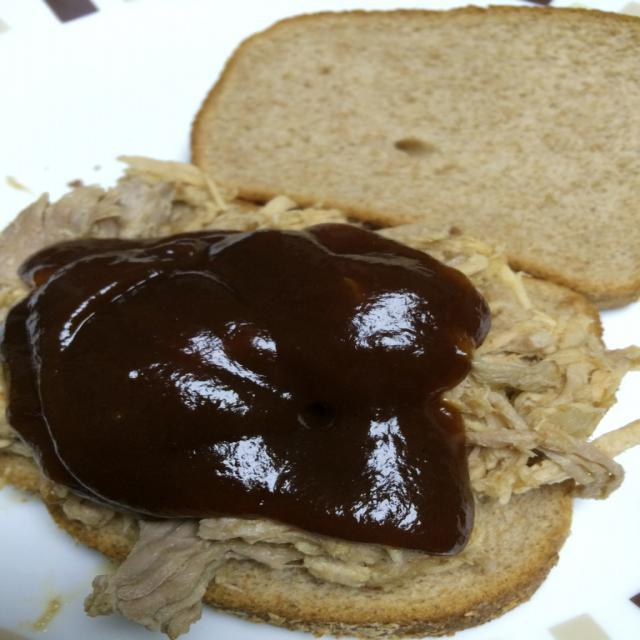Bread: (0, 271, 639, 639), (182, 8, 626, 263)
